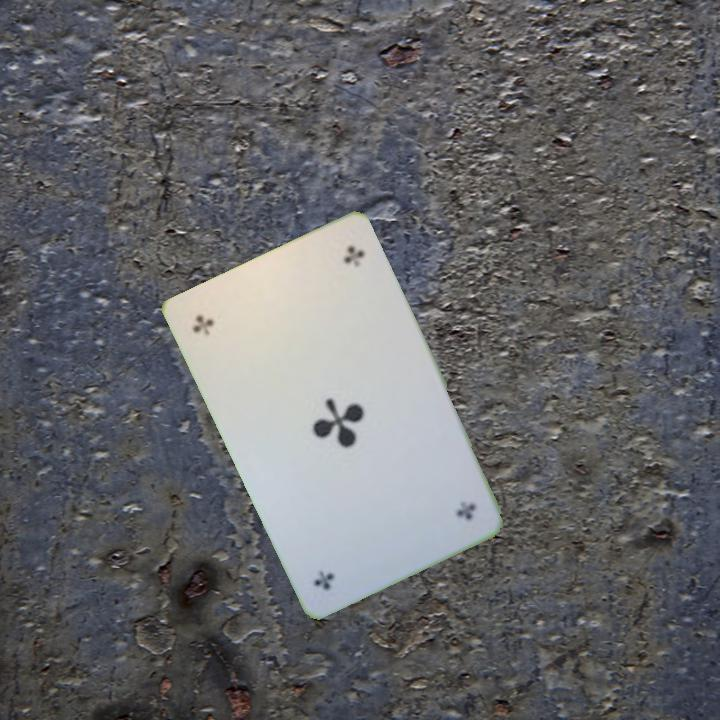c_a.png: (367, 443, 492, 561), (181, 270, 306, 388)
